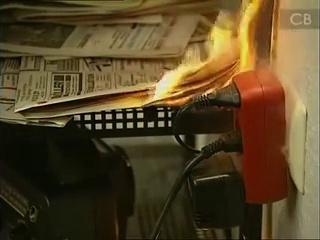Fire: (115, 1, 262, 118)
